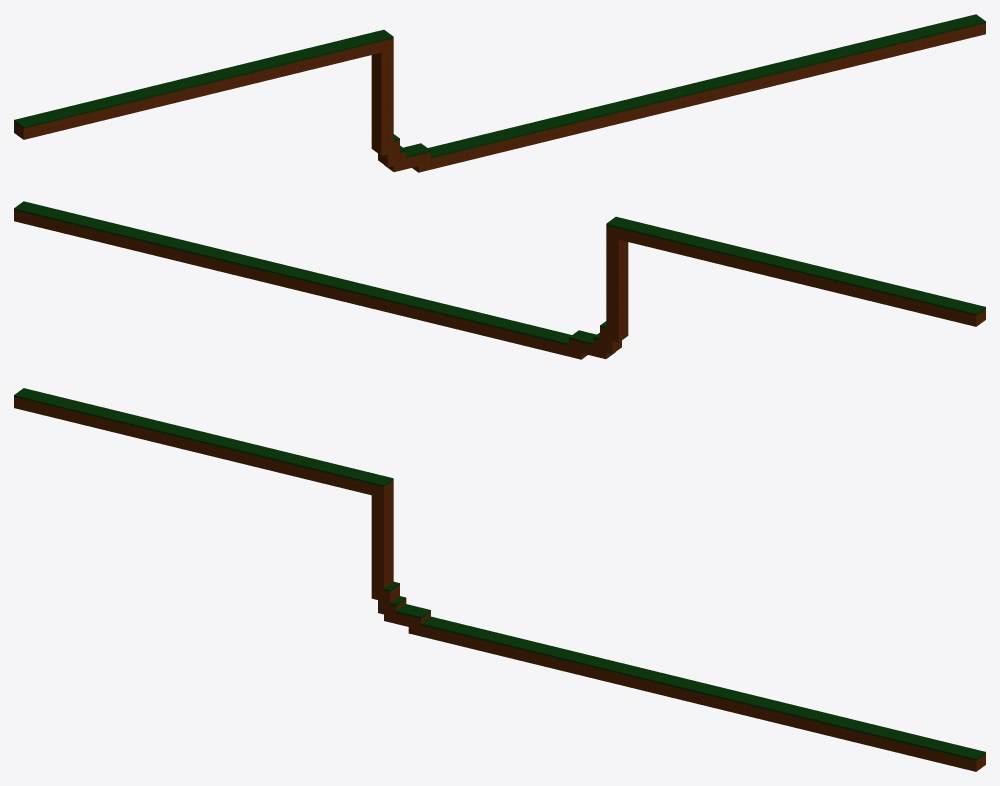
File: EndRoom0BasePiso-8d69c332e0fb.glb
The picture shows the model from 3 angles, top to bottom: view 1: azimuth 30°, elevation 25°; view 2: azimuth 150°, elevation 25°; view 3: azimuth 330°, elevation 25°; orthographic projection.
Parts seen in each view (by area): view 1: Setor_1, Setor_0, Setor_2, Setor_3, Setor_4; view 2: Setor_1, Setor_0, Setor_2, Setor_3, Setor_4; view 3: Setor_1, Setor_2, Setor_3, Setor_0, Setor_4.
Part boxes in pixels (x1=…): Setor_1: x1=211, y1=29, x2=418, y2=171; Setor_0: x1=14, y1=72, x2=220, y2=139; Setor_2: x1=409, y1=104, x2=615, y2=172; Setor_3: x1=606, y1=56, x2=813, y2=124; Setor_4: x1=804, y1=14, x2=985, y2=76; Setor_1: x1=581, y1=216, x2=788, y2=358; Setor_0: x1=779, y1=259, x2=985, y2=326; Setor_2: x1=384, y1=291, x2=590, y2=359; Setor_3: x1=186, y1=243, x2=393, y2=311; Setor_4: x1=14, y1=201, x2=195, y2=263; Setor_1: x1=211, y1=436, x2=417, y2=626; Setor_2: x1=408, y1=607, x2=615, y2=681; Setor_3: x1=606, y1=661, x2=812, y2=729; Setor_0: x1=14, y1=388, x2=220, y2=455; Setor_4: x1=803, y1=710, x2=985, y2=771.
Size of the model in its own units: 162 by 22.88 by 2.84.
Materials: 1 (1 with a texture image).
